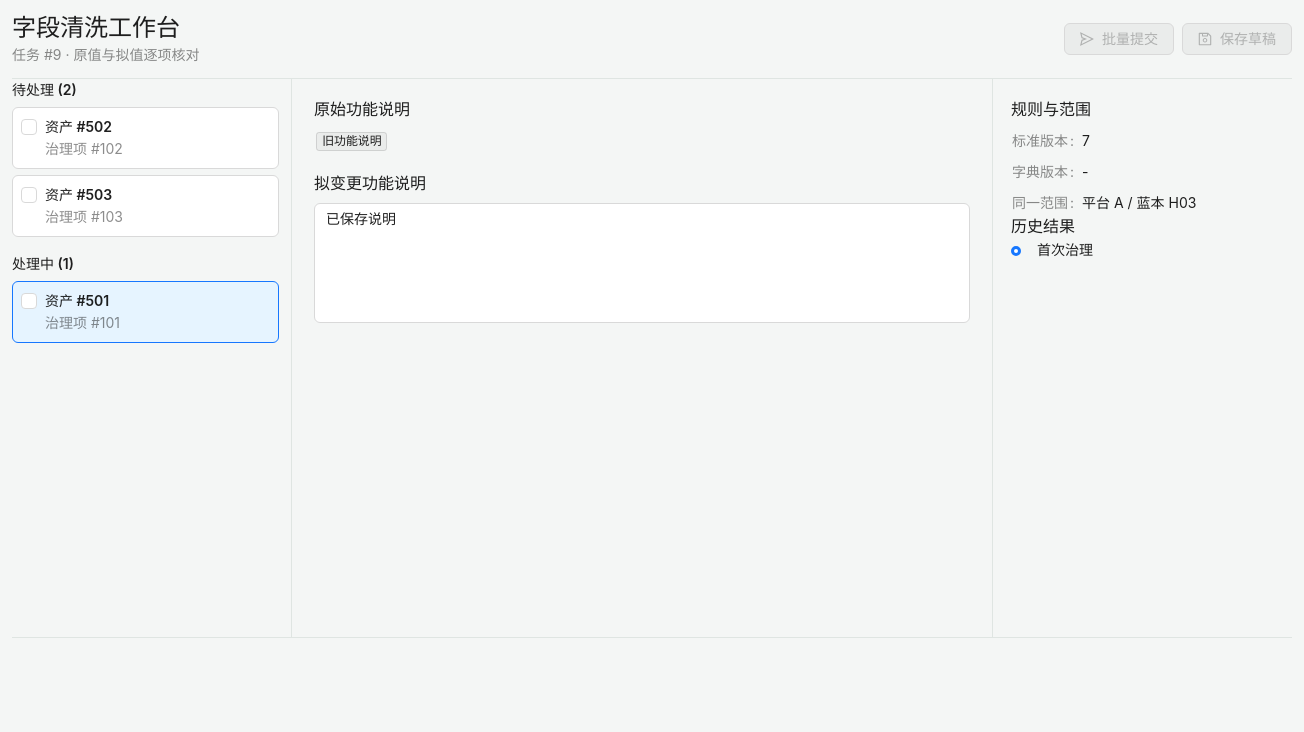
GovernanceExecutionPage › keeps the current item and reloads only the conflicted result
Replace the text in the text box named "拟变更功能说明" with "标准功能说明". click: (642, 263)
box: [314,203,970,323]
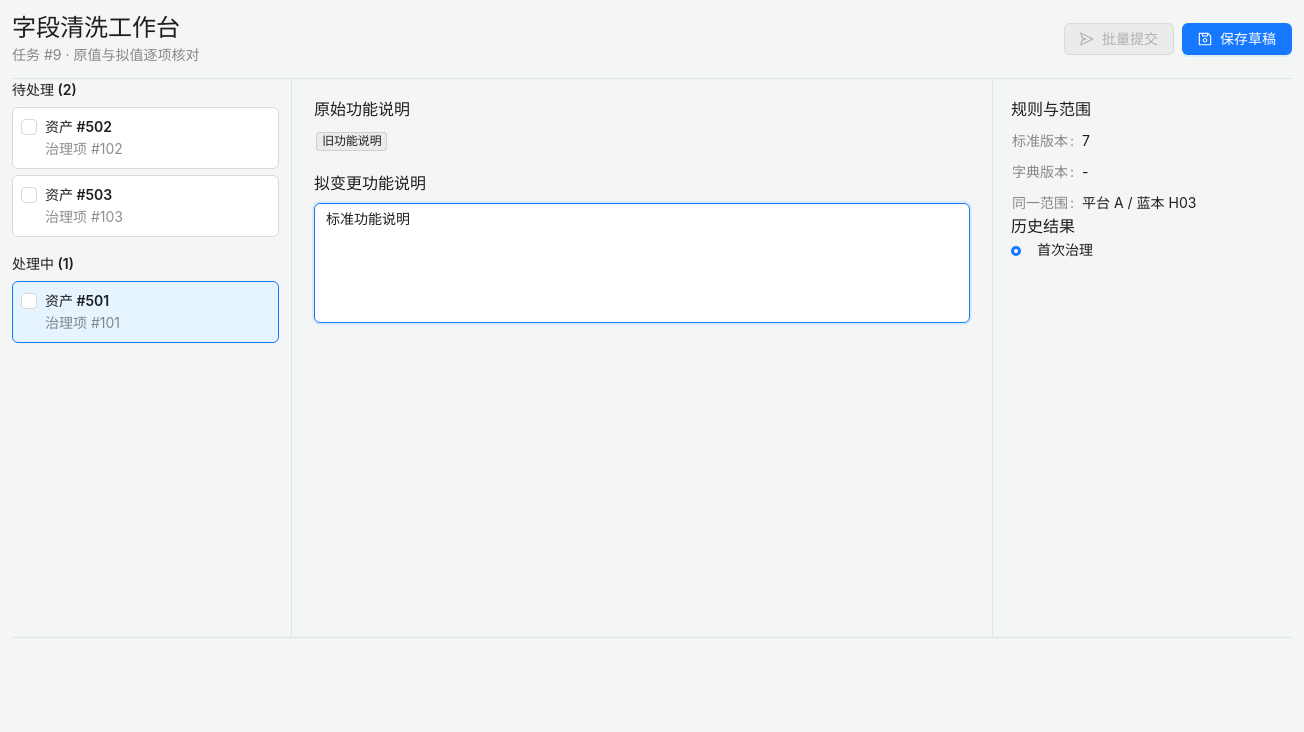
Click the button "保存草稿". click: click(1237, 39)
box: [1182,23,1292,55]
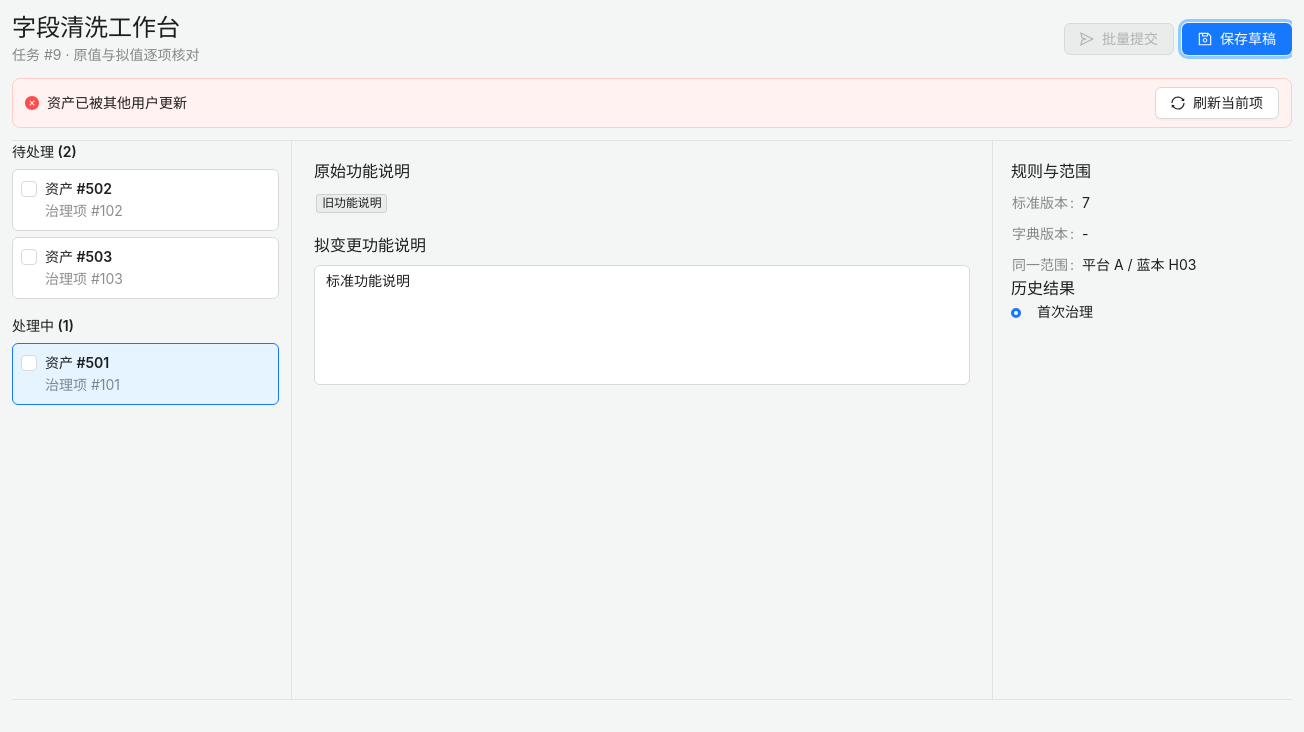
Result: the text "资产已被其他用户更新" is shown at [47,94,187,111]
Result: the button "刷新当前项" is shown
Click the button "刷新当前项". click: click(1217, 103)
box: [1155,87,1279,119]
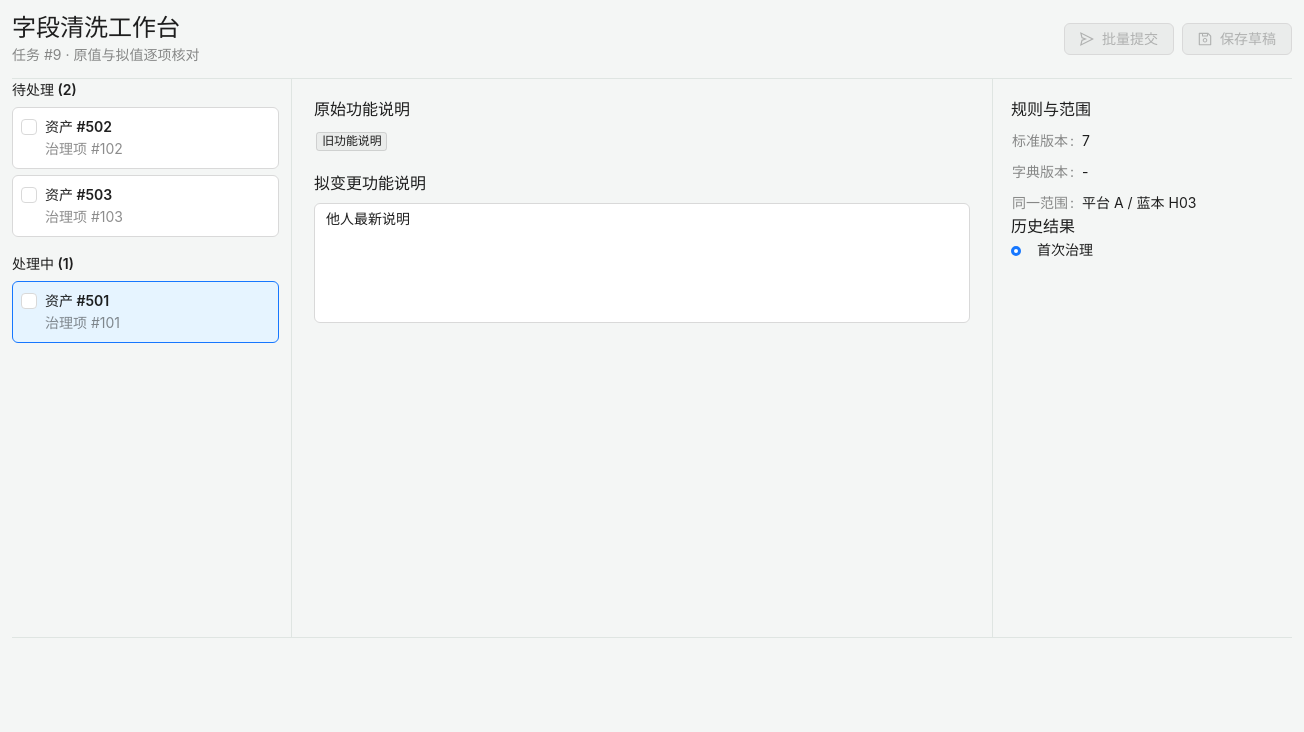
Result: the text box showing "他人最新说明" is shown at [314,203,970,323]
